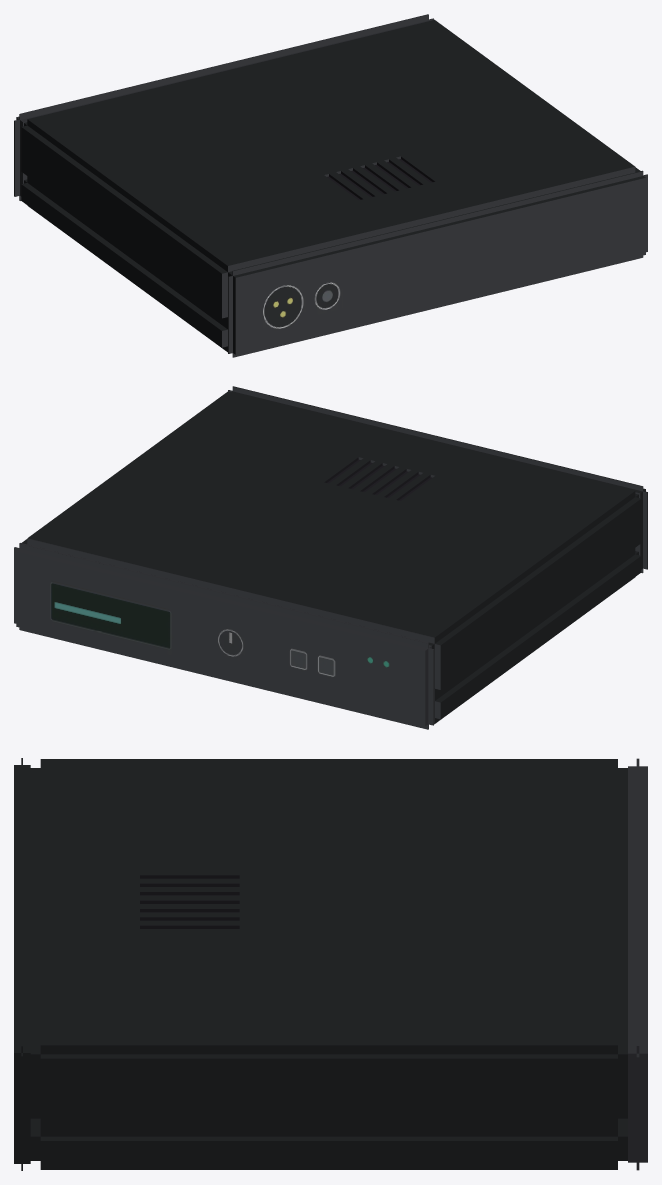
The model's file is audio-technica-atw-r3210.glb.
3 views of the same model, one above another, from view 1: azimuth 30°, elevation 25°; view 2: azimuth 150°, elevation 25°; view 3: azimuth 270°, elevation 25° (orthographic). The views are drawn at different scales.
Visible parts, largest first — view 1: audio-technica-atw-r3210-body; view 2: audio-technica-atw-r3210-body; view 3: audio-technica-atw-r3210-body.
Boxes of the visible parts, box(x1,y1,x2,y2) form: audio-technica-atw-r3210-body: box(14, 14, 647, 357); audio-technica-atw-r3210-body: box(14, 386, 647, 729); audio-technica-atw-r3210-body: box(14, 758, 647, 1170).
Bounding box in the file's own units: 0.21 × 0.0434 × 0.191.
Materials: 1 (1 with a texture image).
